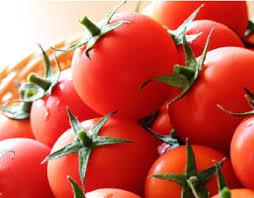tomato: (70, 16, 173, 117), (43, 118, 159, 197), (166, 44, 250, 147), (26, 70, 104, 146), (147, 143, 234, 196), (167, 20, 243, 64), (1, 136, 52, 197)
